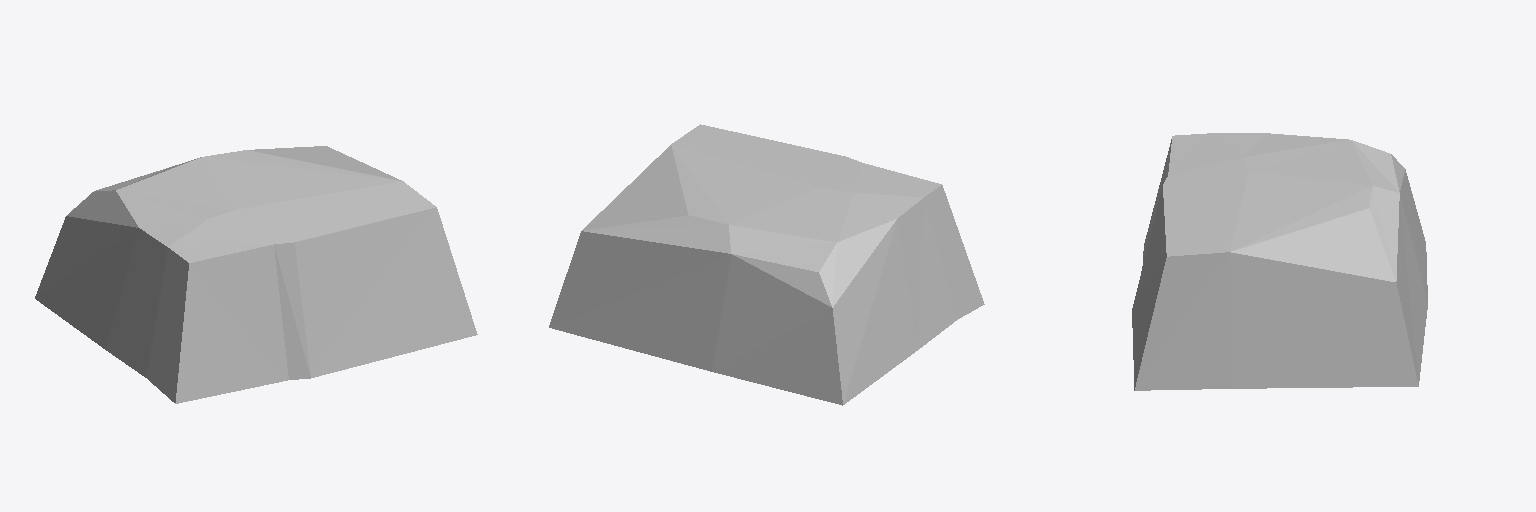
Rendered from Pebble_Square_3.obj.
3 views of the same model, side by side, from view 1: azimuth 30°, elevation 25°; view 2: azimuth 150°, elevation 25°; view 3: azimuth 270°, elevation 25° (orthographic).
Visible parts, largest first — view 1: Pebble_Square_3; view 2: Pebble_Square_3; view 3: Pebble_Square_3.
Part boxes in pixels (x1,y1,x2,y2): Pebble_Square_3: (35, 146, 477, 403); Pebble_Square_3: (549, 124, 984, 405); Pebble_Square_3: (1132, 133, 1427, 390).
Size of the model in its own units: 0.3733 by 0.1589 by 0.3187.